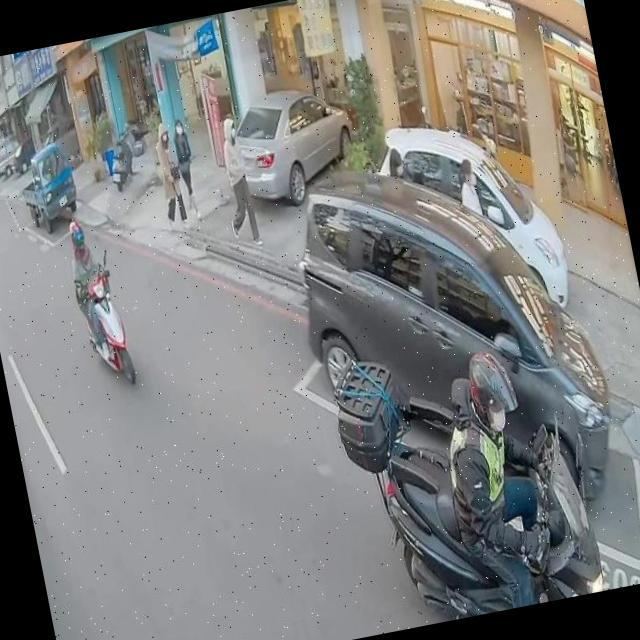person: (420, 330, 581, 616), (61, 214, 132, 376), (208, 100, 272, 250), (148, 118, 192, 226), (166, 113, 208, 226), (454, 152, 489, 225), (384, 141, 409, 184)
